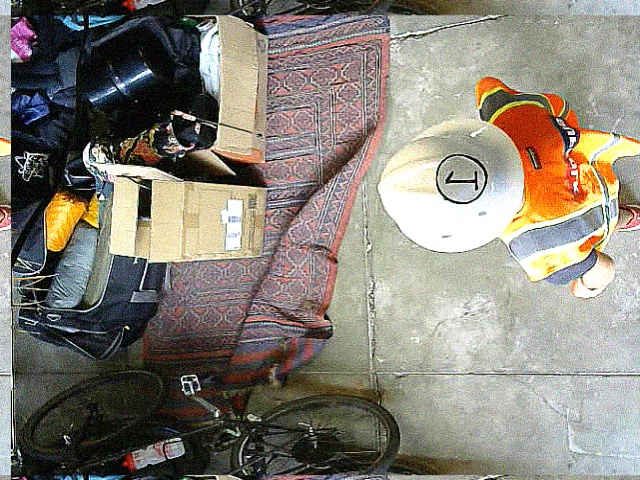one: (435, 154, 486, 203)
